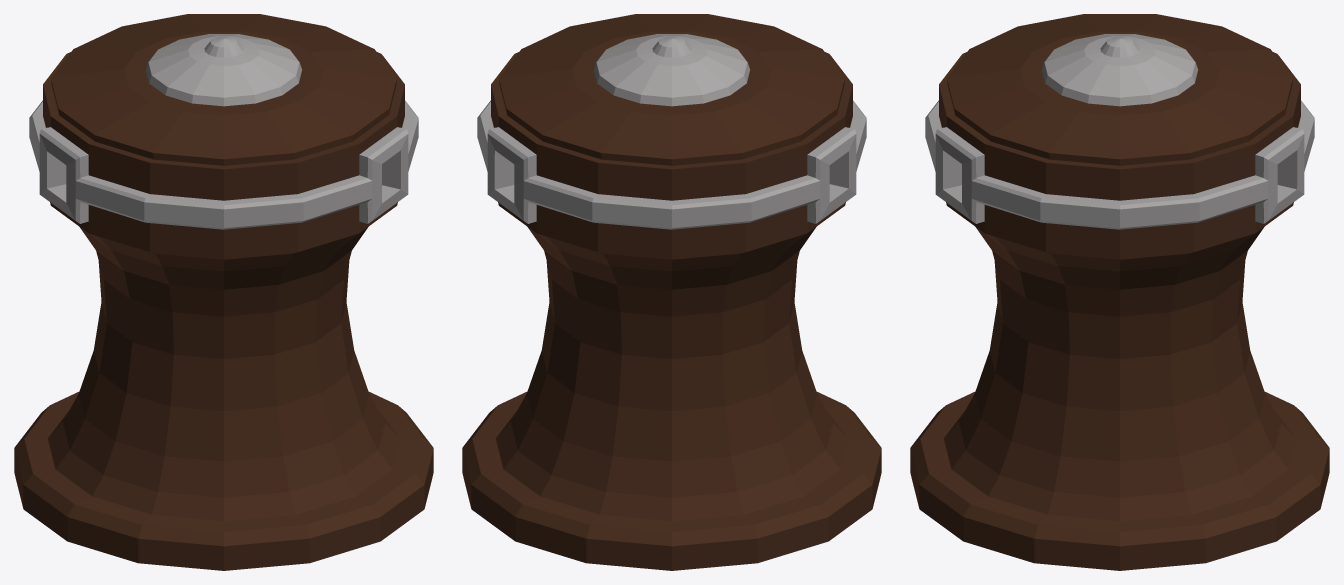
File: CapstanWooden.fbx
3 views of the same model, side by side, from view 1: azimuth 30°, elevation 25°; view 2: azimuth 150°, elevation 25°; view 3: azimuth 270°, elevation 25° (orthographic).
Visible parts, largest first — view 1: CapstanWooden; view 2: CapstanWooden; view 3: CapstanWooden.
Part boxes in pixels (<box>): CapstanWooden: <box>14,14,433,570</box>; CapstanWooden: <box>462,14,881,570</box>; CapstanWooden: <box>910,14,1329,570</box>.
Size of the model in its own units: 121 by 142 by 122.
